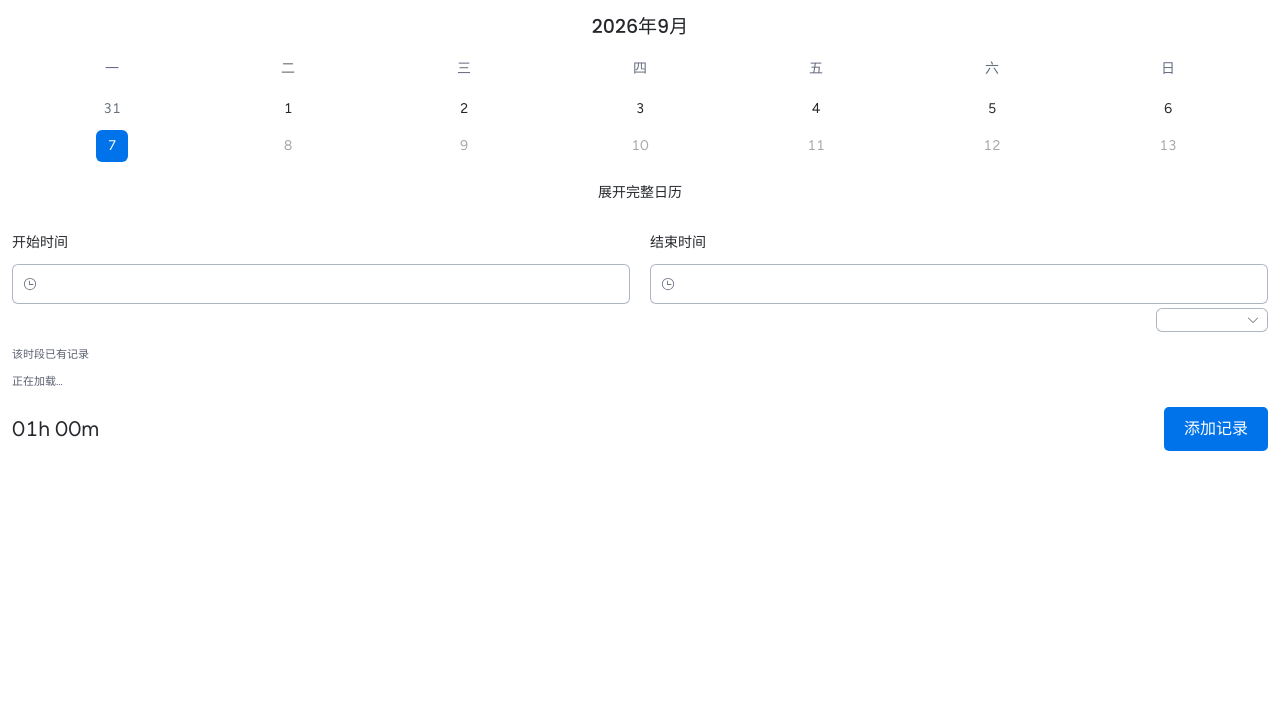
Test: 手动计时日历 › 浏览其他月份后收起恢复选中日期的两周视图
Click the button with class "yp-calendar__expand" at (640, 193), box [26,174,1254,212]
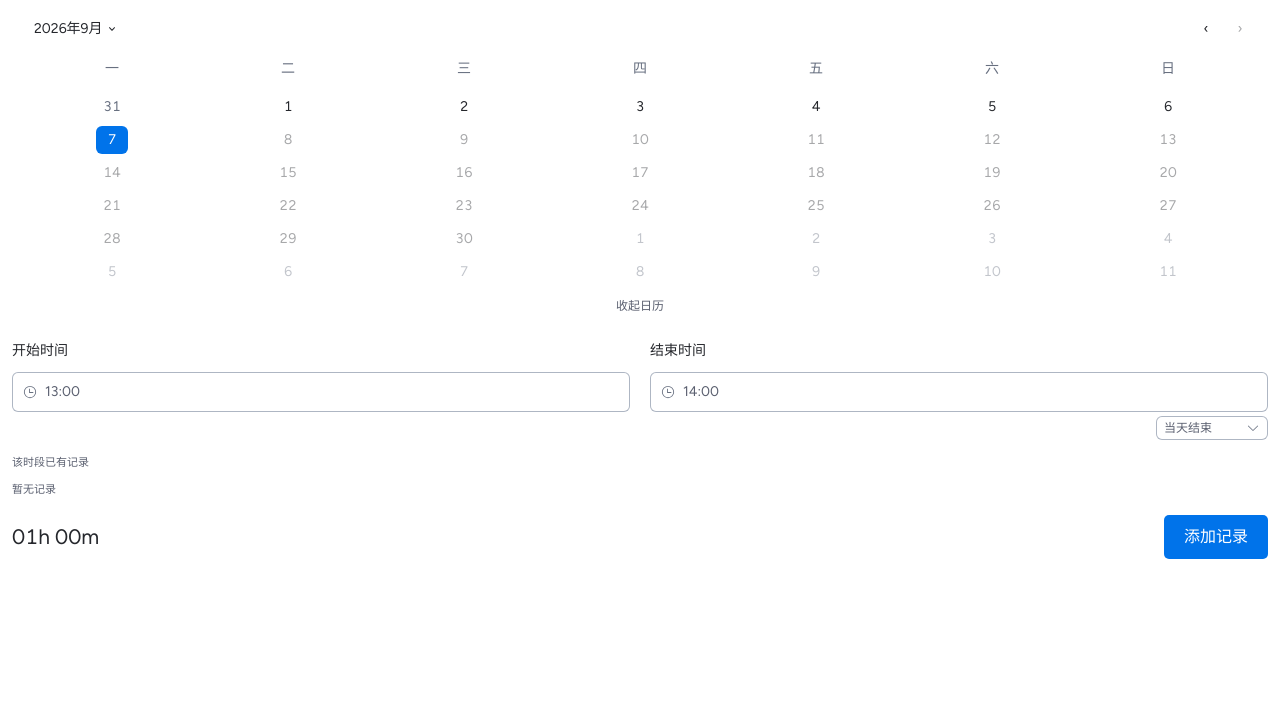
Click the button named "上个月" at (1206, 29), box [1192,14,1220,44]
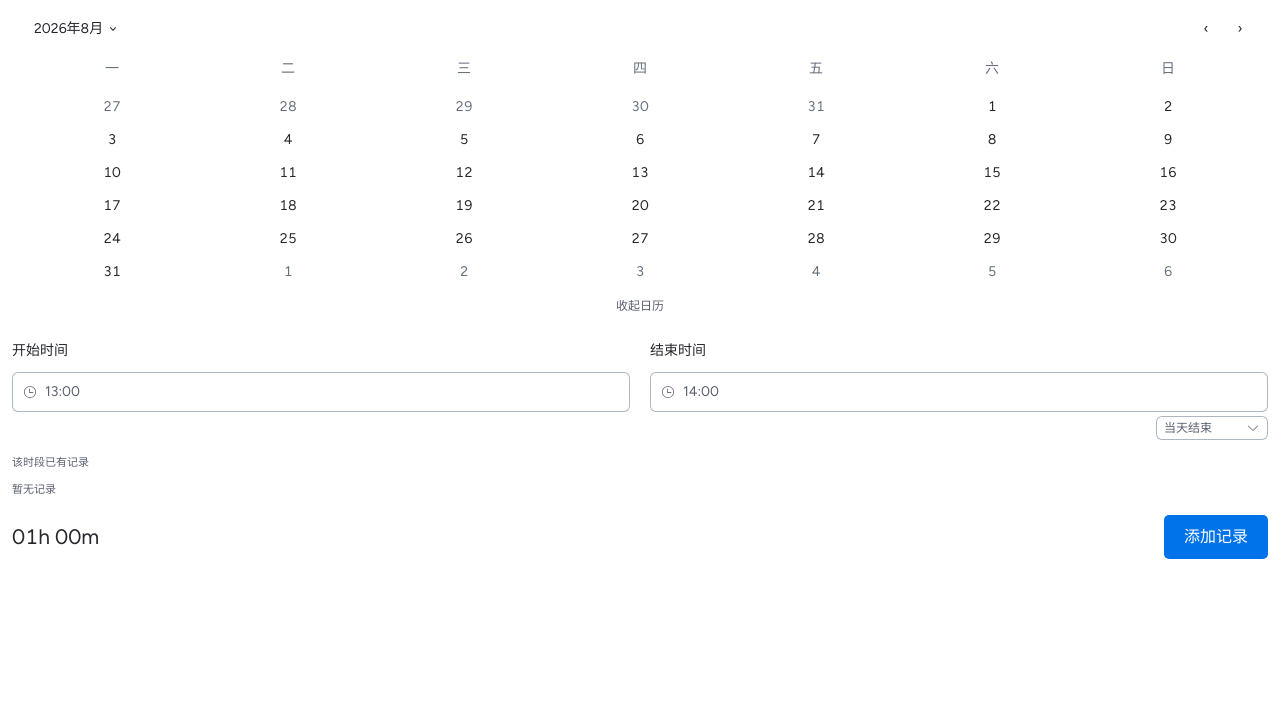
Click the button with class "yp-calendar__expand" at (640, 306), box [26,292,1254,320]
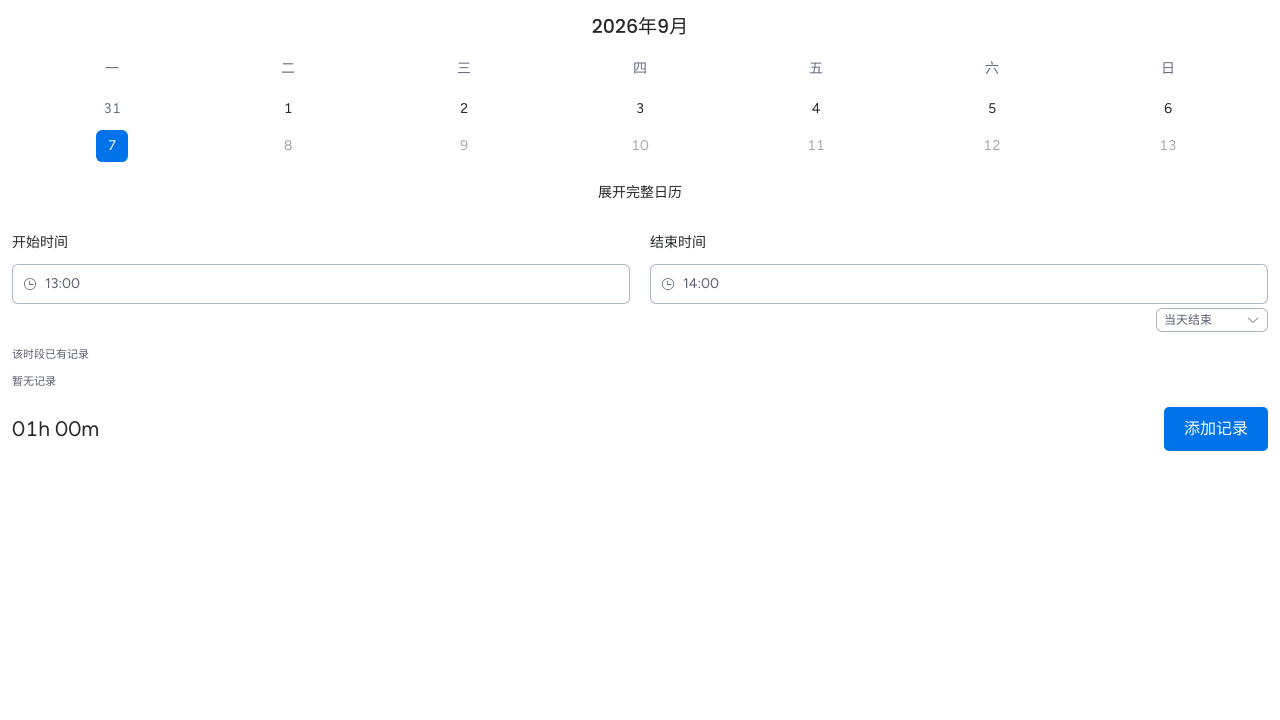
Expected: the heading "2026年9月" is shown, [592,13,688,40]
